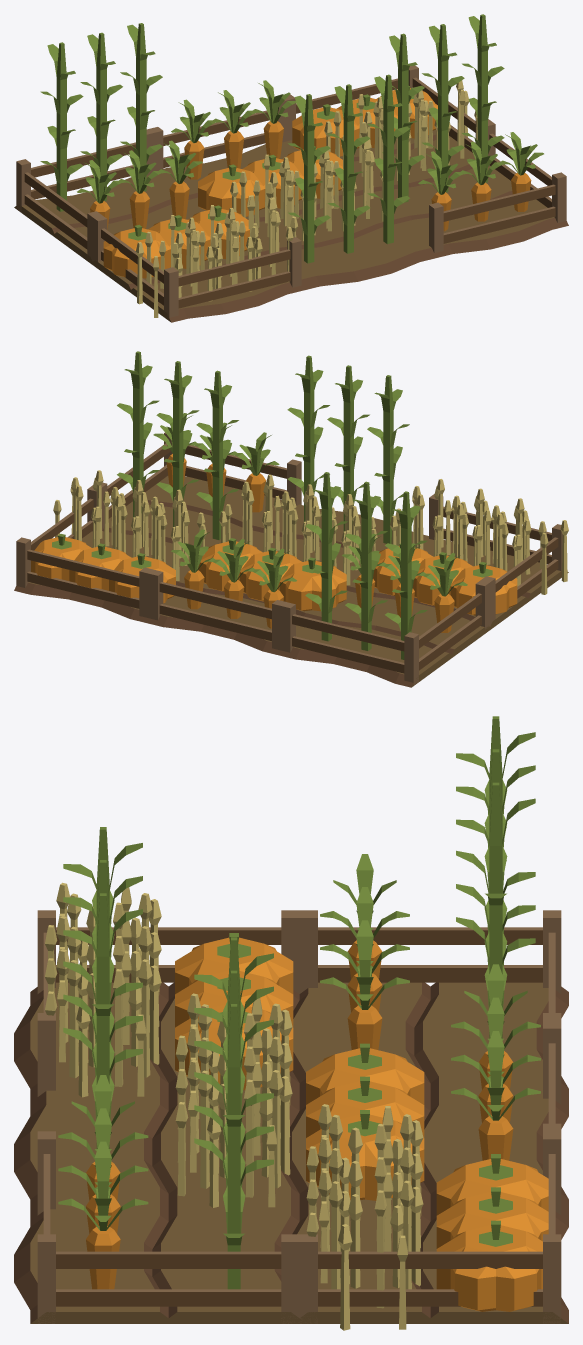
File: potager.glb
3 renders of one model, top to bottom at view 1: azimuth 30°, elevation 25°; view 2: azimuth 150°, elevation 25°; view 3: azimuth 270°, elevation 25°, orthographic. The views are drawn at different scales.
Visible parts, largest first — view 1: crops_dirtRow; view 2: crops_dirtRow; view 3: crops_dirtRow.
Part boxes in pixels (x1=…): crops_dirtRow: x1=14, y1=14, x2=568, y2=322; crops_dirtRow: x1=14, y1=351, x2=568, y2=687; crops_dirtRow: x1=14, y1=716, x2=568, y2=1330.
Bounding box in the file's own units: 6.59 × 2.62 × 4.45.
1 material, 1 textured.
